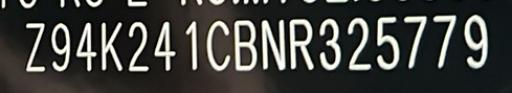letter: (464, 10, 494, 67), (430, 12, 462, 65), (400, 14, 430, 67), (344, 16, 374, 69), (259, 17, 287, 72), (314, 18, 342, 71), (151, 18, 179, 71), (288, 16, 314, 73), (96, 20, 124, 71), (124, 21, 152, 72), (374, 16, 400, 69), (205, 18, 231, 71), (232, 18, 258, 71), (21, 21, 47, 74), (180, 19, 204, 72), (48, 22, 72, 73), (72, 22, 96, 71)
